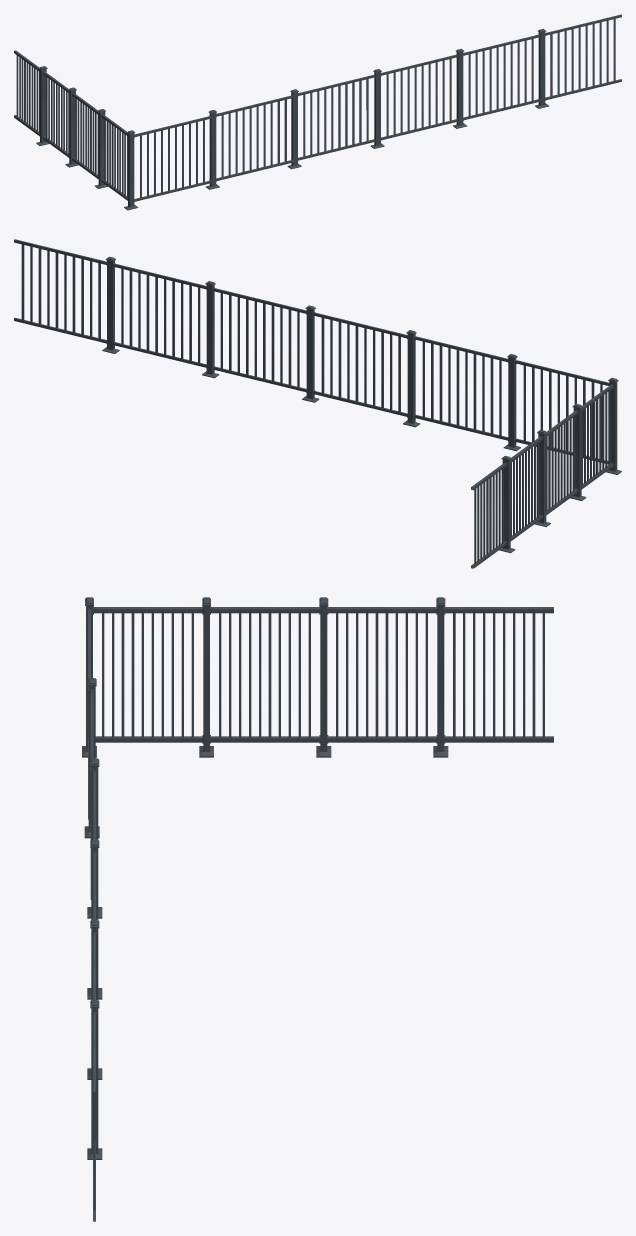
Rendered from Rombarde.fbx.
3 renders of one model, top to bottom at view 1: azimuth 30°, elevation 25°; view 2: azimuth 150°, elevation 25°; view 3: azimuth 270°, elevation 25°, orthographic. The views are drawn at different scales.
Parts seen in each view (by area): view 1: Plane.014; view 2: Plane.014; view 3: Plane.014.
Boxes of the visible parts, x1=… form: Plane.014: x1=14, y1=14, x2=621, y2=210; Plane.014: x1=14, y1=239, x2=621, y2=568; Plane.014: x1=82, y1=597, x2=553, y2=1221.
Size of the model in its own units: 709 by 105 by 291.
Materials: 1 (1 with a texture image).
